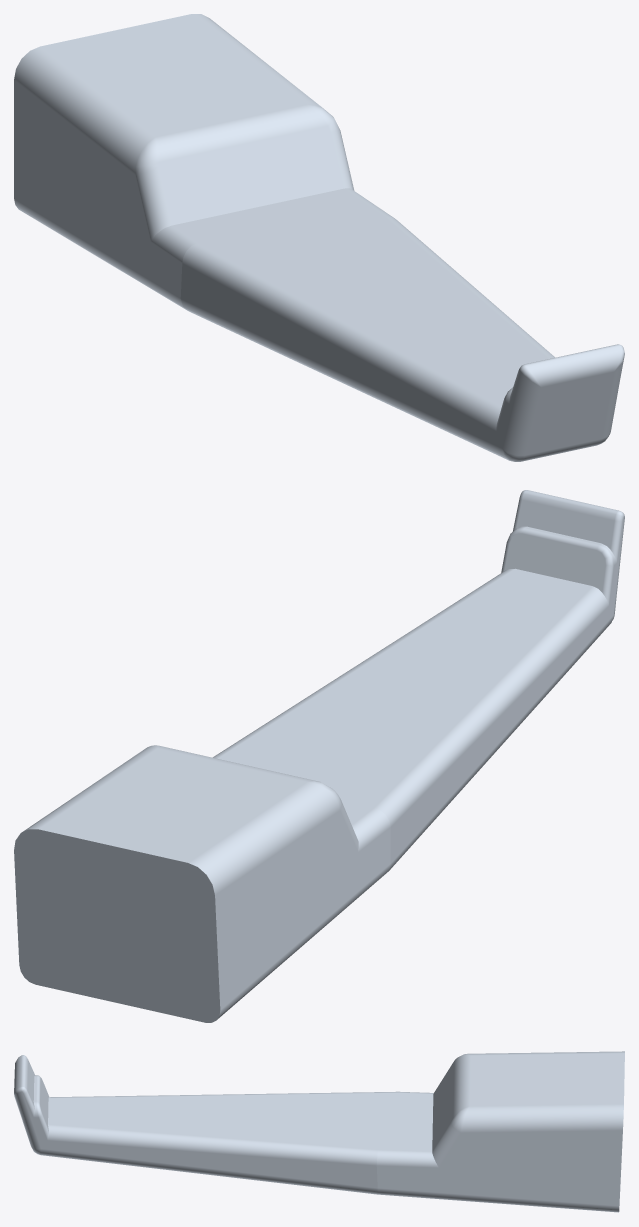
File: RB-007_viewer.glb
The picture shows the model from 3 angles, top to bottom: view 1: azimuth 30°, elevation 25°; view 2: azimuth 150°, elevation 25°; view 3: azimuth 270°, elevation 25°; orthographic projection. The views are drawn at different scales.
Visible parts, largest first — view 1: basebody_imported1; view 2: basebody_imported1; view 3: basebody_imported1.
Boxes of the visible parts, x1,y1,x2,y2 form: basebody_imported1: (14,14,624,461); basebody_imported1: (14,490,624,1022); basebody_imported1: (14,1051,624,1212).
Bounding box in the file's own units: 0.00199 × 0.0016 × 0.00776.
